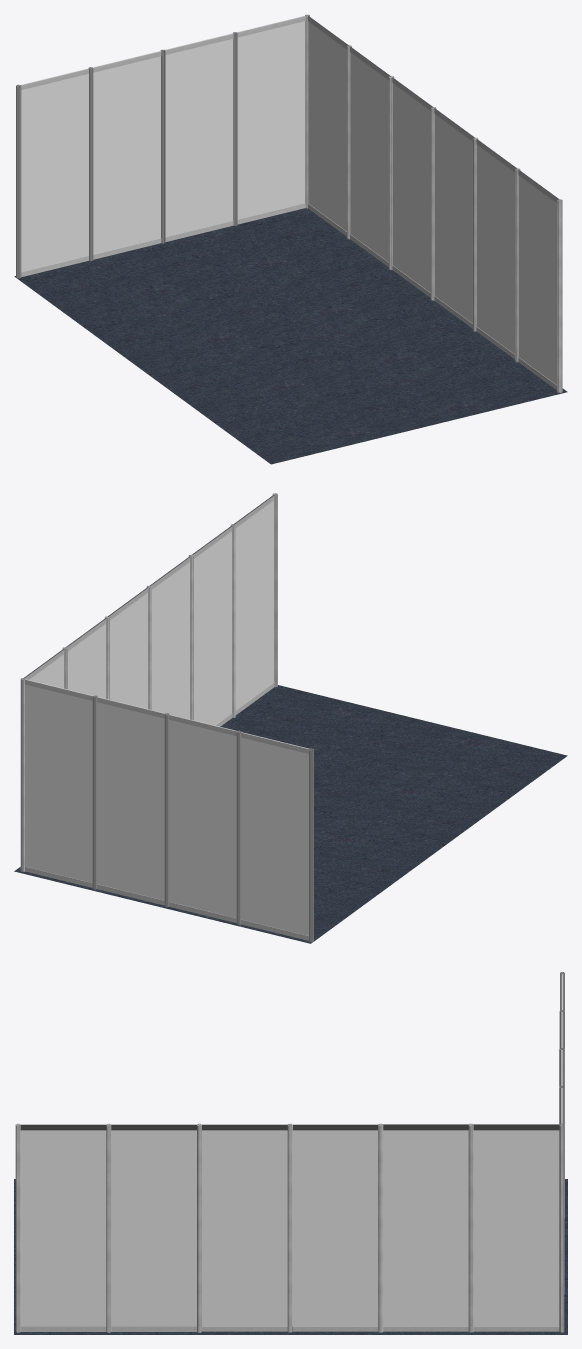
3 views of the same model, one above another, from view 1: azimuth 30°, elevation 25°; view 2: azimuth 150°, elevation 25°; view 3: azimuth 270°, elevation 25° (orthographic). The views are drawn at different scales.
Parts seen in each view (by area): view 1: Component (×3), Group; view 2: Component (×3), Group; view 3: Component (×4), Group.
Boxes of the visible parts, left/top/right/bottom form: Component (×3): left=16, top=14, right=562, bottom=392; Group: left=14, top=208, right=567, bottom=464; Component (×3): left=20, top=493, right=313, bottom=942; Group: left=14, top=685, right=567, bottom=943; Component (×4): left=15, top=972, right=564, bottom=1332; Group: left=14, top=1179, right=567, bottom=1334.
Size of the model in its own units: 4 by 2.47 by 6.
5 materials, 2 textured.
